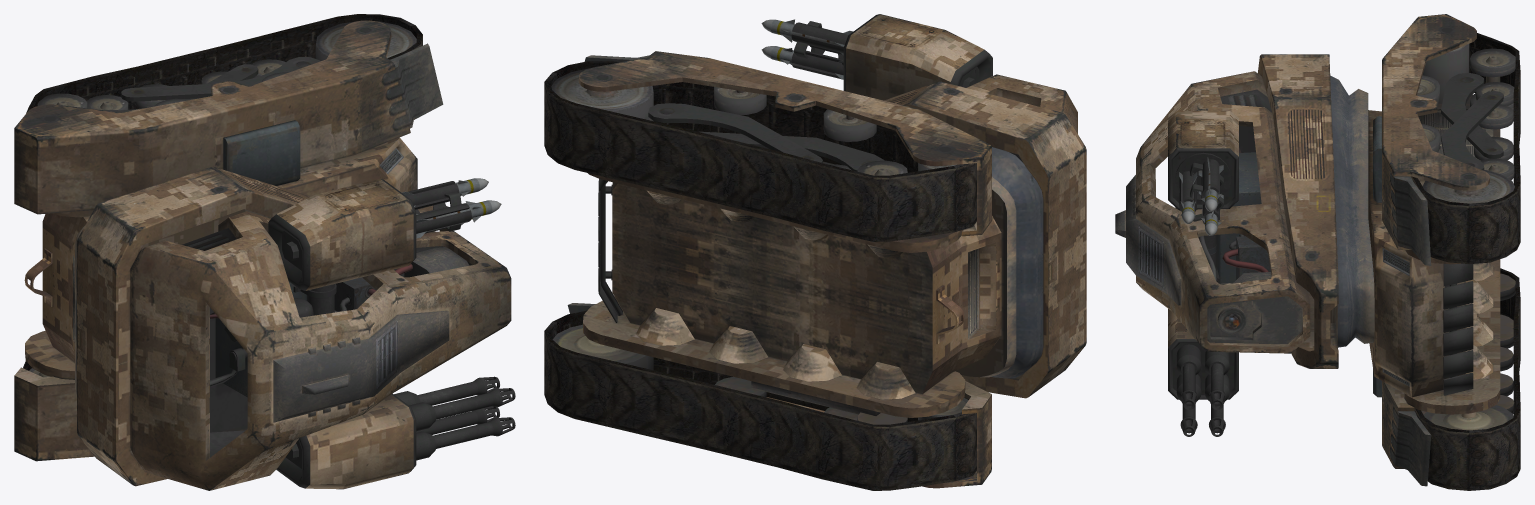
The model's file is veh_t6_drone_tank_LOD0.obj.
The picture shows the model from 3 angles, left to right: view 1: azimuth 30°, elevation 25°; view 2: azimuth 150°, elevation 25°; view 3: azimuth 270°, elevation 25°; orthographic projection. The views are drawn at different scales.
Visible parts, largest first — view 1: mtl_veh_t6_drone_tank, mtl_veh_t6_asd_tread_left, mtl_veh_t6_drone_tank_wheels, mtl_veh_t6_drone_tank_missile; view 2: mtl_veh_t6_drone_tank, mtl_veh_t6_asd_tread_left, mtl_veh_t6_drone_tank_wheels, mtl_veh_t6_drone_tank_missile; view 3: mtl_veh_t6_drone_tank, mtl_veh_t6_asd_tread_left, mtl_veh_t6_drone_tank_wheels, mtl_veh_t6_drone_tank_missile.
Part boxes in pixels (x1=…): mtl_veh_t6_drone_tank: x1=14, y1=20, x2=515, y2=490; mtl_veh_t6_asd_tread_left: x1=23, y1=14, x2=422, y2=370; mtl_veh_t6_drone_tank_wheels: x1=29, y1=21, x2=416, y2=377; mtl_veh_t6_drone_tank_missile: x1=402, y1=178, x2=501, y2=238; mtl_veh_t6_drone_tank: x1=567, y1=14, x2=1086, y2=488; mtl_veh_t6_asd_tread_left: x1=544, y1=61, x2=976, y2=490; mtl_veh_t6_drone_tank_wheels: x1=551, y1=68, x2=968, y2=424; mtl_veh_t6_drone_tank_missile: x1=761, y1=19, x2=852, y2=79; mtl_veh_t6_drone_tank: x1=1115, y1=14, x2=1503, y2=486; mtl_veh_t6_asd_tread_left: x1=1411, y1=33, x2=1520, y2=490; mtl_veh_t6_drone_tank_wheels: x1=1417, y1=44, x2=1515, y2=430; mtl_veh_t6_drone_tank_missile: x1=1179, y1=157, x2=1223, y2=235.
Size of the model in its own units: 104 by 76.81 by 94.9.
